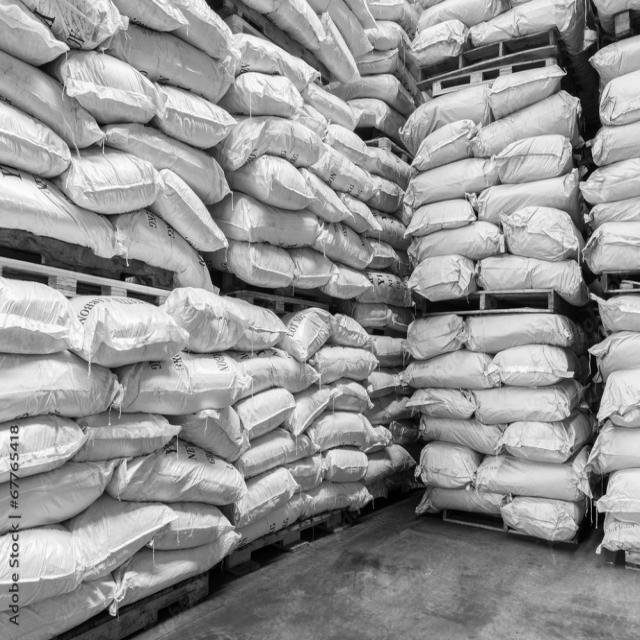sack: (1, 164, 119, 258), (109, 531, 241, 615), (101, 121, 232, 202), (109, 16, 230, 103), (1, 50, 105, 150), (107, 436, 247, 504), (72, 493, 176, 580), (1, 460, 120, 534), (68, 296, 190, 368), (113, 351, 252, 414), (0, 352, 119, 422), (59, 50, 165, 122), (114, 209, 213, 286), (1, 575, 115, 640), (59, 146, 164, 215), (476, 90, 584, 154), (2, 525, 82, 610), (1, 276, 83, 352), (399, 84, 488, 154), (466, 168, 580, 222), (152, 168, 226, 251), (478, 448, 588, 501), (0, 414, 84, 482), (478, 254, 590, 305), (220, 191, 320, 248), (164, 287, 248, 353), (0, 102, 70, 180), (222, 116, 324, 169), (77, 412, 180, 462), (230, 33, 320, 90), (155, 84, 232, 150), (498, 410, 592, 463), (475, 380, 585, 425), (466, 312, 584, 352), (470, 1, 576, 45), (406, 158, 496, 208), (410, 220, 503, 268), (234, 155, 314, 210), (236, 427, 320, 479), (34, 1, 123, 50), (504, 205, 583, 259), (0, 3, 68, 64), (146, 502, 236, 548), (490, 65, 565, 119), (232, 465, 298, 526), (181, 406, 250, 461), (493, 344, 582, 386), (238, 492, 307, 546), (248, 1, 324, 50), (501, 496, 584, 540), (499, 134, 572, 184), (219, 241, 296, 287), (409, 120, 477, 172), (239, 348, 320, 391), (406, 350, 492, 390), (417, 415, 504, 454), (314, 12, 360, 84), (408, 254, 477, 302), (179, 1, 237, 58), (316, 145, 375, 199), (233, 71, 303, 116), (281, 307, 336, 364), (236, 388, 295, 440), (403, 198, 476, 240), (582, 220, 640, 272), (406, 18, 470, 65), (360, 48, 420, 98), (415, 442, 479, 488), (406, 312, 465, 360), (415, 487, 509, 517), (587, 420, 640, 473), (306, 80, 362, 130), (308, 411, 377, 451), (580, 158, 640, 204), (302, 166, 351, 222), (587, 330, 639, 382), (327, 1, 373, 58), (588, 34, 640, 84), (416, 1, 511, 28), (586, 119, 640, 166), (316, 343, 379, 383), (237, 300, 287, 350), (598, 70, 640, 127), (303, 481, 370, 516), (284, 384, 329, 436), (357, 73, 416, 112), (349, 97, 407, 136), (323, 220, 368, 268), (597, 372, 640, 422), (406, 388, 474, 419), (595, 468, 640, 514), (372, 141, 415, 188), (125, 1, 187, 33), (336, 189, 380, 234), (590, 294, 640, 332), (324, 122, 370, 163), (321, 262, 371, 299), (365, 444, 416, 480), (583, 195, 640, 226), (291, 246, 333, 288), (594, 515, 640, 551), (359, 271, 406, 304), (324, 447, 367, 483), (288, 453, 328, 491), (328, 378, 373, 411), (332, 313, 370, 350), (372, 207, 408, 246), (376, 394, 417, 423), (366, 21, 412, 46), (372, 336, 409, 367), (376, 176, 406, 212), (368, 240, 399, 270), (373, 1, 415, 21), (370, 370, 404, 390)
